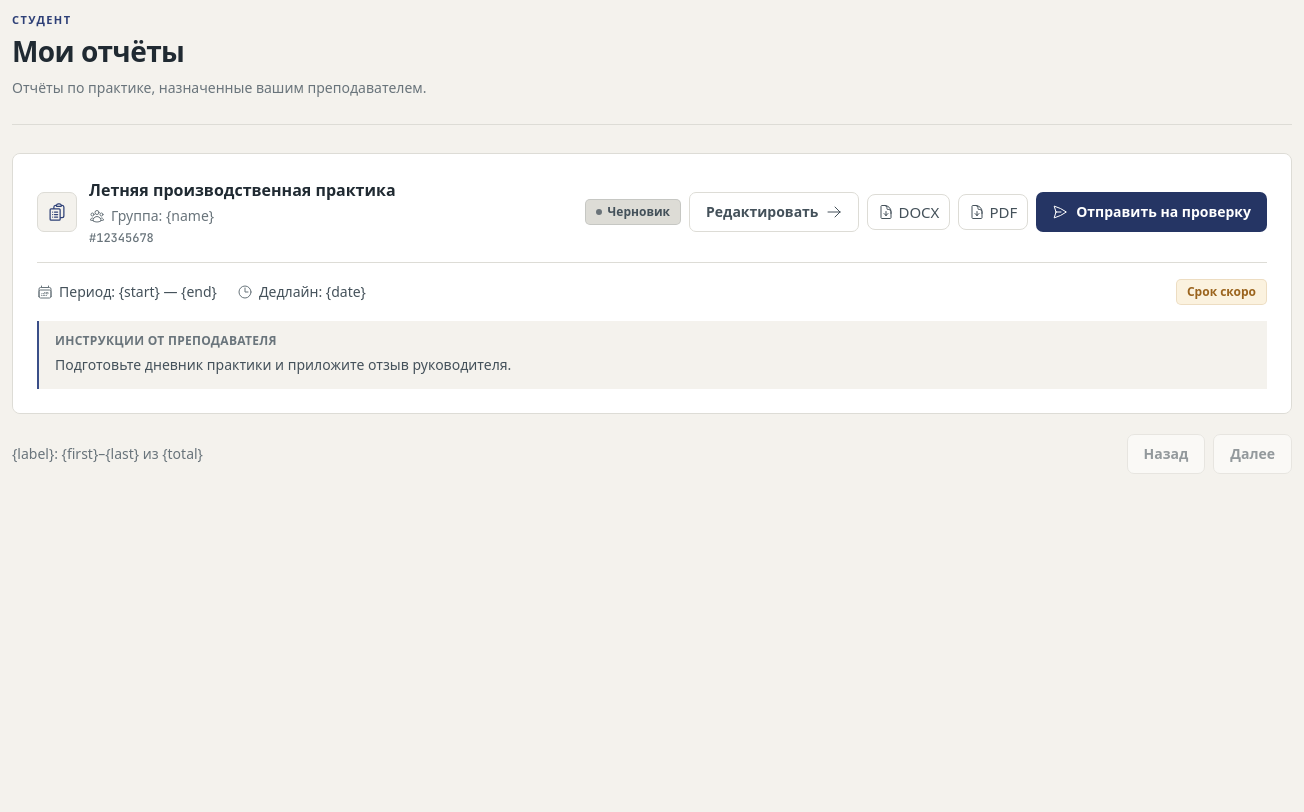
Test case: StudentReportsPage submission › shows a network error beside the report when submission cannot reach the server
Click the button "Отправить на проверку": (1152, 212) 1036,192 -> 1267,232
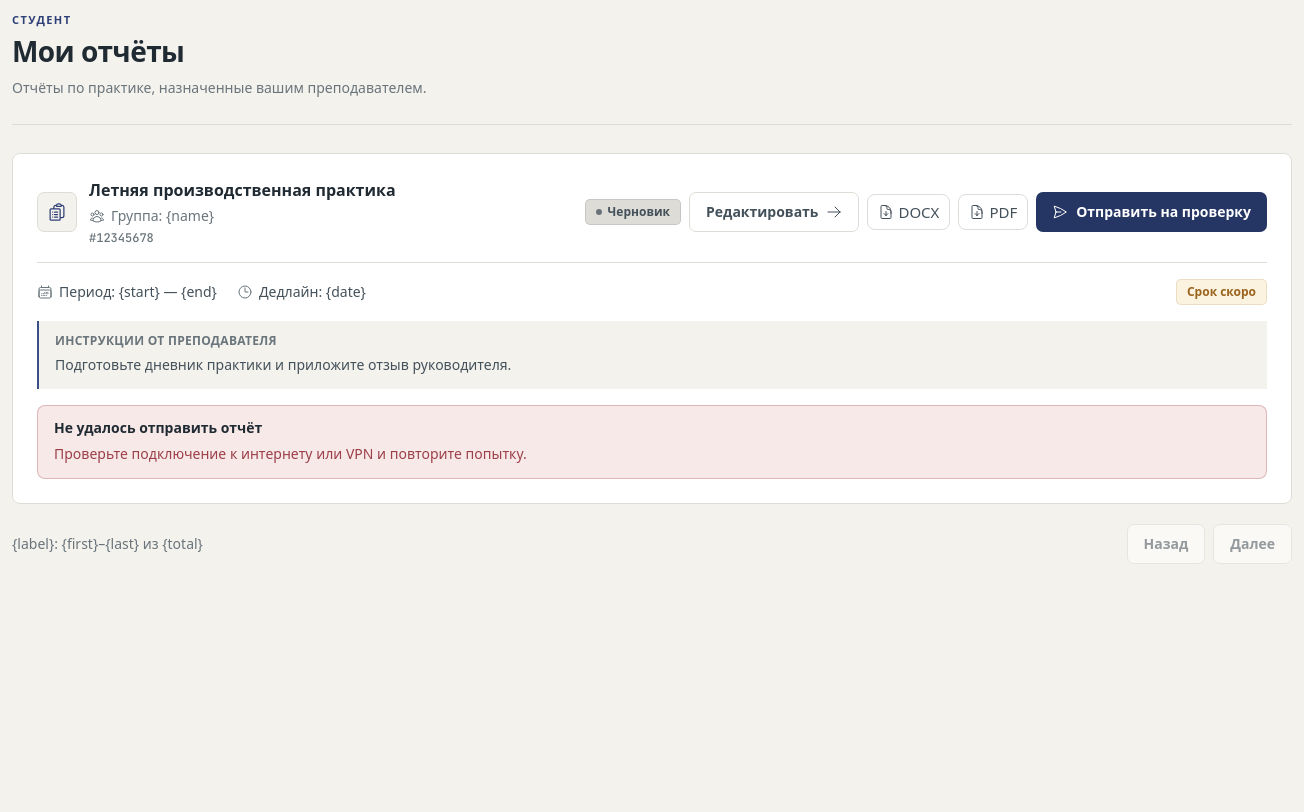
Check: the message that starts with "Не удалось отправить отчёт" is shown, box 54,418 -> 262,437
Check: the message that starts with "Не удалось отправить отчёт" shows "Проверьте подключение к интернету или VPN и повторите попытку.", box 54,444 -> 527,463
